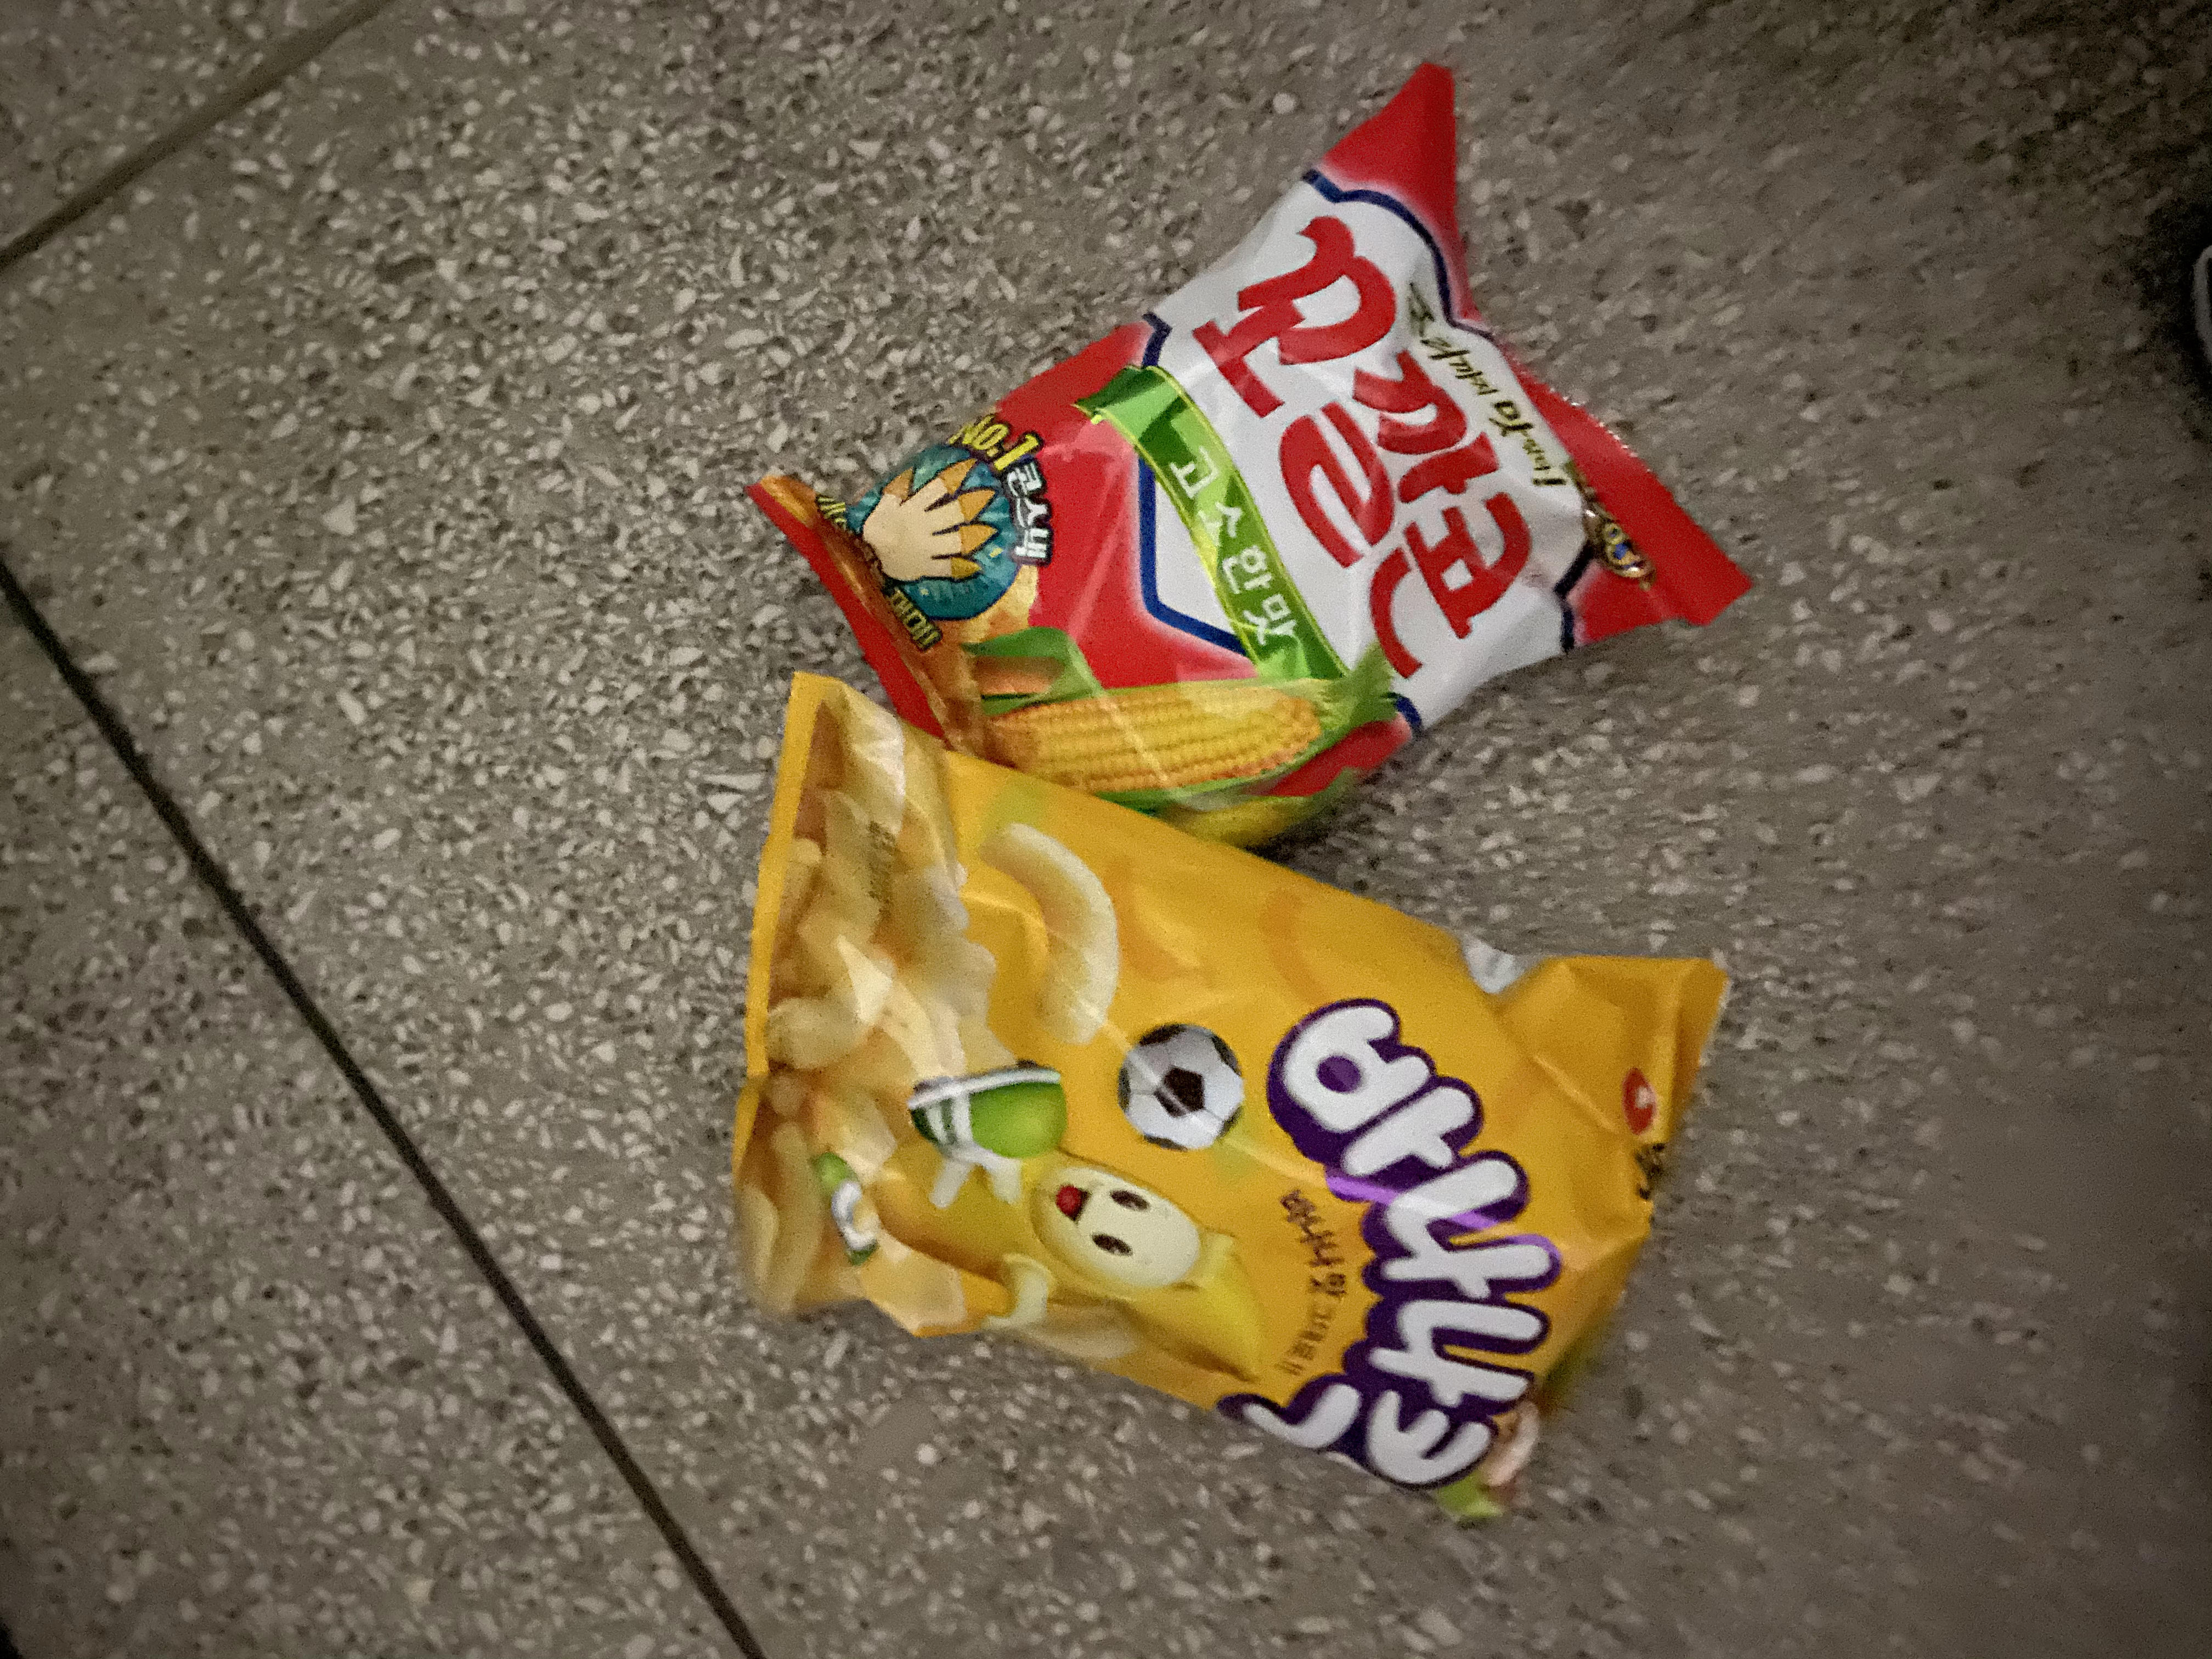banana: (712, 662, 1745, 1556)
ggoggalcon: (723, 49, 1771, 917)
